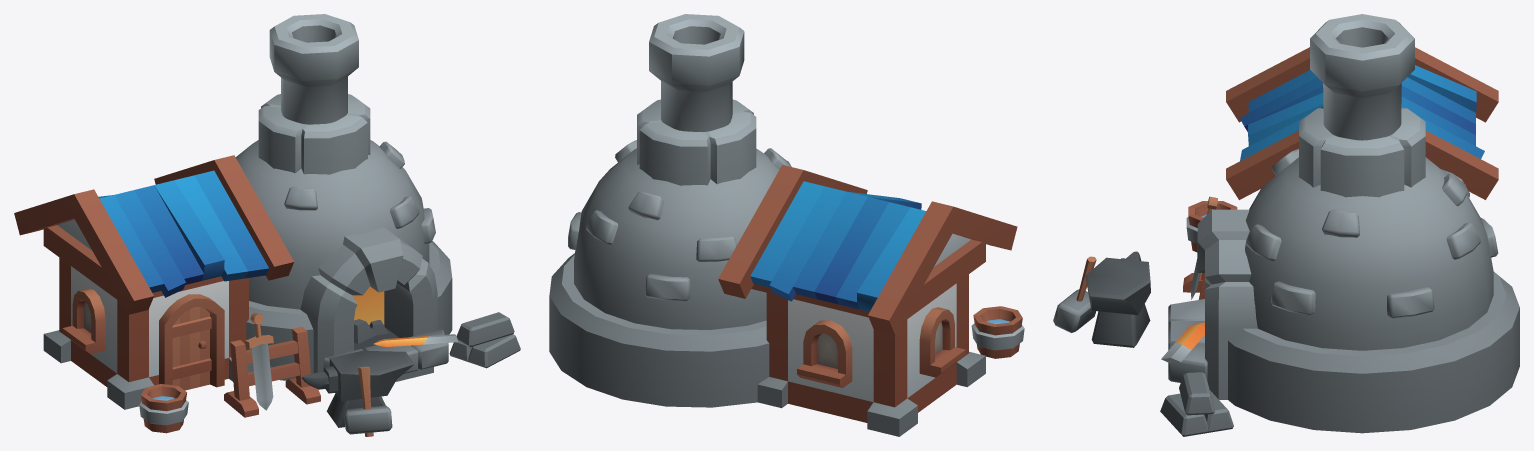
The model's file is blacksmith.glb.
3 views of the same model, side by side, from view 1: azimuth 30°, elevation 25°; view 2: azimuth 150°, elevation 25°; view 3: azimuth 270°, elevation 25° (orthographic). The views are drawn at different scales.
Visible parts, largest first — view 1: building_blacksmith_blue; view 2: building_blacksmith_blue; view 3: building_blacksmith_blue.
Part boxes in pixels (<box>): building_blacksmith_blue: <box>14,14,520,436</box>; building_blacksmith_blue: <box>549,14,1024,436</box>; building_blacksmith_blue: <box>1053,14,1519,436</box>.
Size of the model in its own units: 1.29 by 0.9851 by 1.25.
Materials: 1 (1 with a texture image).
